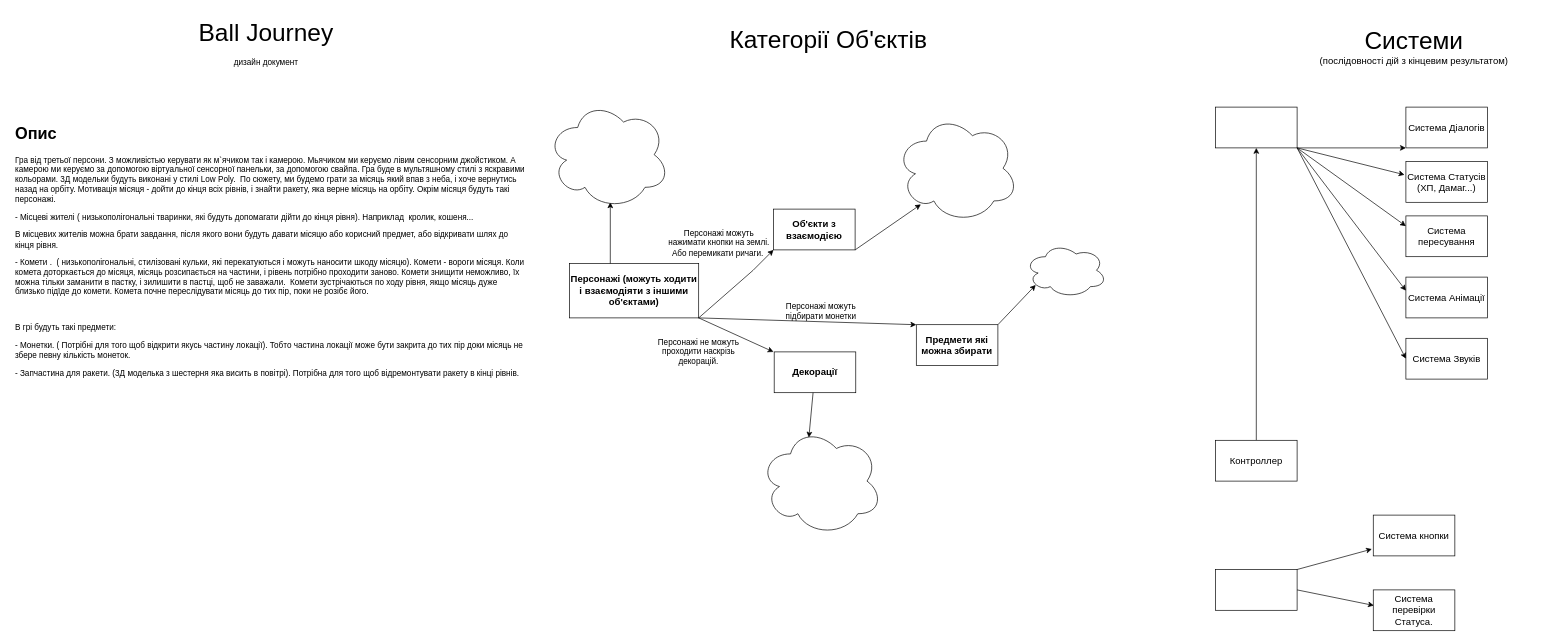
Image size: 1549x643. Some labels were removed from this diagram. Each missing label, with the centre of its shape:
"3Д модельки через які не можна проходити" goes at (820,481).
"Монетки, або шестерні" goes at (1065,270).
"Місяць. Комета. Місцевий житель. (кролик)" goes at (607,154).
"Персонаж" goes at (1256,127).
"Ричаги, Перемикачі, кнопки." goes at (956,168).
"Тріггер" goes at (1256,589).
